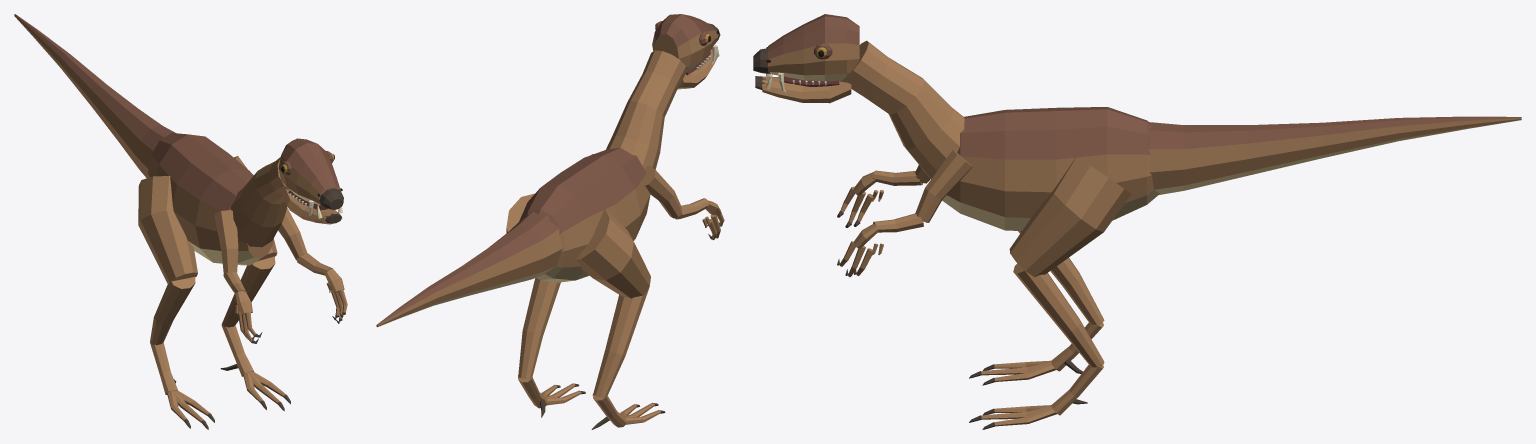
3 views of the same model, side by side, from view 1: azimuth 30°, elevation 25°; view 2: azimuth 150°, elevation 25°; view 3: azimuth 270°, elevation 25° (orthographic). The views are drawn at different scales.
Visible parts, largest first — view 1: Trunk_profile, Tail_long_balance, L_Hind_thigh, Neck_S_profile, Skull_deep_profile, L_Hind_shin, R_Hind_shin, L_Upper_arm, R_Upper_arm, Lower_jaw, R_Metatarsus, L_Metatarsus (+2 smaller); view 2: Trunk_profile, Tail_long_balance, Neck_S_profile, L_Hind_thigh, Skull_deep_profile, L_Hind_shin, R_Hind_shin, L_Upper_arm, Lower_jaw, L_Metatarsus, R_Hind_thigh, R_Metatarsus (+1 smaller); view 3: Trunk_profile, Tail_long_balance, R_Hind_thigh, Neck_S_profile, Skull_deep_profile, R_Hind_shin, R_Upper_arm, Lower_jaw, L_Hind_shin, R_Metatarsus.
Boxes of the visible parts, left/top/right/bottom form: Trunk_profile: left=147, top=133, right=273, bottom=265; Tail_long_balance: left=14, top=14, right=175, bottom=178; L_Hind_thigh: left=138, top=176, right=197, bottom=284; Neck_S_profile: left=231, top=157, right=289, bottom=247; Skull_deep_profile: left=278, top=138, right=341, bottom=205; L_Hind_shin: left=150, top=277, right=195, bottom=345; R_Hind_shin: left=221, top=256, right=275, bottom=327; L_Upper_arm: left=214, top=210, right=238, bottom=274; R_Upper_arm: left=278, top=207, right=307, bottom=259; Lower_jaw: left=282, top=189, right=341, bottom=224; R_Metatarsus: left=221, top=325, right=253, bottom=376; L_Metatarsus: left=150, top=342, right=177, bottom=394; Trunk_profile: left=519, top=148, right=650, bottom=282; Tail_long_balance: left=376, top=211, right=563, bottom=327; Neck_S_profile: left=606, top=50, right=686, bottom=169; L_Hind_thigh: left=576, top=209, right=650, bottom=298; Skull_deep_profile: left=652, top=14, right=718, bottom=70; L_Hind_shin: left=593, top=288, right=648, bottom=398; R_Hind_shin: left=518, top=277, right=560, bottom=379; L_Upper_arm: left=645, top=165, right=682, bottom=218; Lower_jaw: left=678, top=49, right=717, bottom=89; L_Metatarsus: left=592, top=394, right=626, bottom=427; R_Hind_thigh: left=506, top=193, right=534, bottom=233; R_Metatarsus: left=518, top=375, right=547, bottom=408; Trunk_profile: left=942, top=107, right=1159, bottom=230; Tail_long_balance: left=1148, top=116, right=1521, bottom=194; R_Hind_thigh: left=1009, top=157, right=1130, bottom=277; Neck_S_profile: left=840, top=40, right=964, bottom=178; Skull_deep_profile: left=768, top=14, right=859, bottom=81; R_Hind_shin: left=1013, top=263, right=1104, bottom=369; R_Upper_arm: left=915, top=150, right=972, bottom=222; Lower_jaw: left=762, top=76, right=851, bottom=103; L_Hind_shin: left=1018, top=231, right=1104, bottom=325; R_Metatarsus: left=1051, top=364, right=1103, bottom=415.
Size of the model in its own units: 0.2547 by 0.6623 by 1.2.
